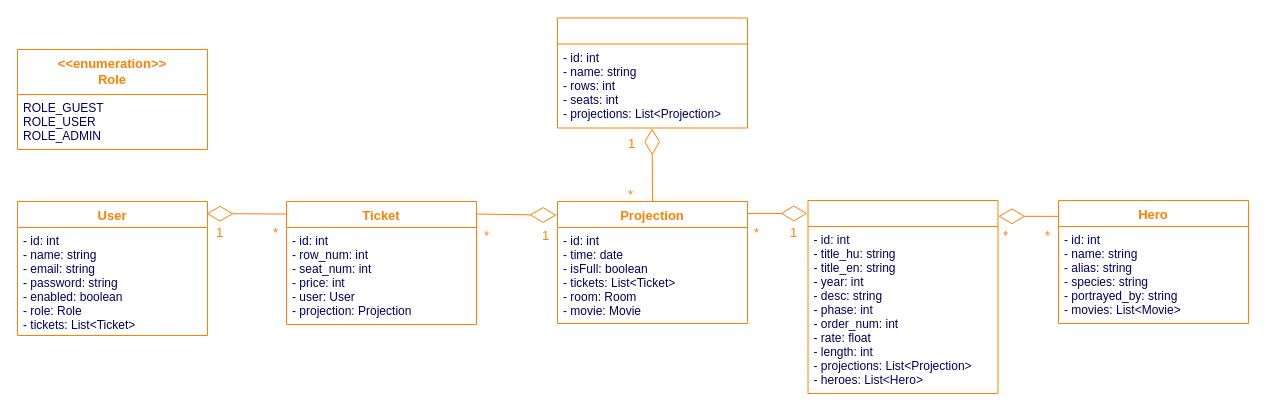
This 1266x413 diagram has some shape labels left out. Each missing label, with the box of its shape:
Movie: (807, 200, 998, 394)
Room: (556, 17, 748, 128)
